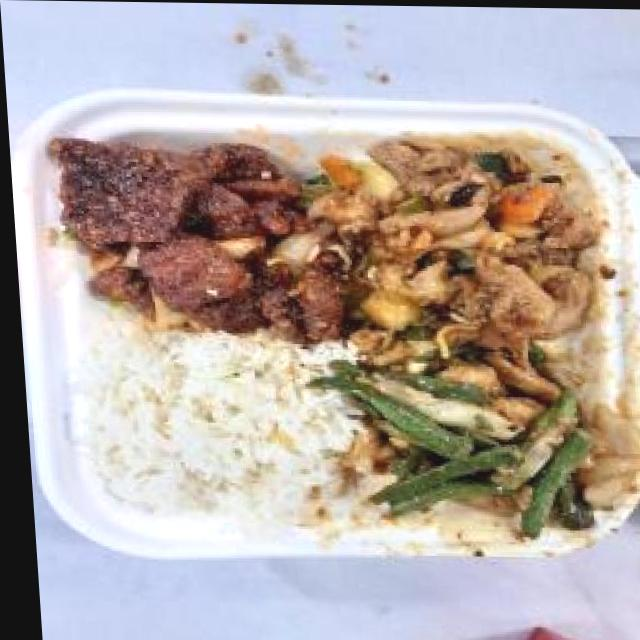Beijing Beef: (45, 128, 335, 337)
Kung Pao Chicken: (301, 123, 610, 340)
String Bean Chicken Breast: (343, 339, 601, 535)
White Steamed Rice: (67, 326, 351, 529)
